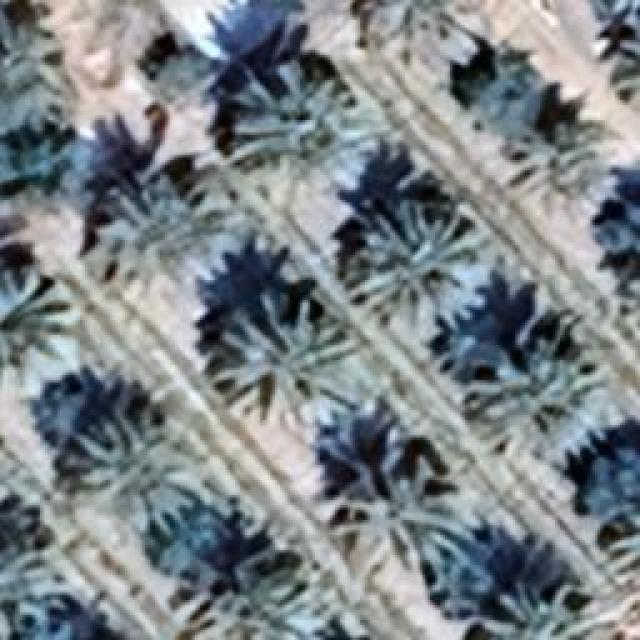PalmTree: (28, 128, 622, 542), (36, 102, 626, 248), (210, 290, 358, 452), (66, 399, 219, 549), (345, 200, 485, 328), (95, 170, 240, 290), (335, 468, 480, 580), (462, 352, 592, 462), (221, 52, 351, 162), (0, 267, 80, 395), (362, 0, 498, 70), (478, 574, 622, 638), (0, 130, 81, 232), (200, 568, 318, 638), (0, 20, 70, 130), (525, 102, 600, 198), (0, 542, 70, 638), (302, 611, 398, 640), (0, 471, 34, 552), (608, 24, 638, 108), (296, 621, 410, 640), (590, 0, 640, 30)
